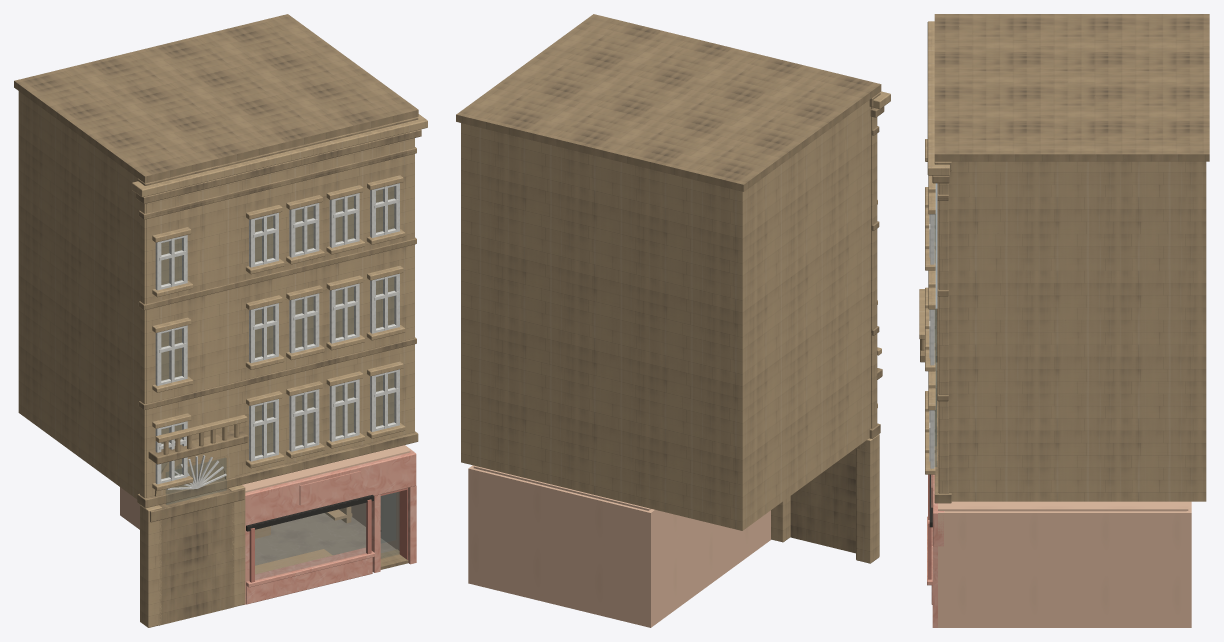
File: nice-things-blockout.glb
3 renders of one model, left to right at view 1: azimuth 30°, elevation 25°; view 2: azimuth 150°, elevation 25°; view 3: azimuth 270°, elevation 25°, orthographic. The views are drawn at different scales.
Visible parts, largest first — view 1: NT_UpperBuildingMass, NT_RoofSlab, NT_CentralEntry_Recess, NT_Glass_MainDisplay, NT_PinkFascia, NT_InteriorFloor, NT_UpperCorniceCrown, NT_StringCourse_00, NT_CentralEntry_LeftPier, NT_UpperCorniceLower, NT_WindowBase, NT_StringCourse_02 (+30 smaller); view 2: NT_UpperBuildingMass, NT_RoofSlab, NT_InteriorWall_Back, NT_InteriorWall_Left, NT_CentralEntry_Recess, NT_CentralEntry_LeftPier, NT_FacadePilaster_00, NT_CentralEntry_RightPier, NT_InteriorCeiling; view 3: NT_UpperBuildingMass, NT_RoofSlab, NT_InteriorWall_Right, NT_FacadePilaster_05, NT_InteriorCeiling, NT_UpperCorniceCrown, NT_InteriorWall_Back, NT_PinkFascia, NT_PinkJamb_Right, NT_StringCourse_00.
Boxes of the visible parts, x1=… form: NT_UpperBuildingMass: x1=18, y1=91, x2=414, y2=499; NT_RoofSlab: x1=14, y1=14, x2=418, y2=183; NT_CentralEntry_Recess: x1=159, y1=502, x2=234, y2=625; NT_Glass_MainDisplay: x1=255, y1=503, x2=366, y2=579; NT_PinkFascia: x1=245, y1=449, x2=416, y2=527; NT_InteriorFloor: x1=255, y1=513, x2=408, y2=569; NT_UpperCorniceCrown: x1=132, y1=114, x2=427, y2=197; NT_StringCourse_00: x1=137, y1=431, x2=418, y2=508; NT_CentralEntry_LeftPier: x1=140, y1=505, x2=161, y2=627; NT_UpperCorniceLower: x1=136, y1=129, x2=421, y2=203; NT_WindowBase: x1=246, y1=557, x2=372, y2=604; NT_StringCourse_02: x1=138, y1=237, x2=416, y2=310; NT_UpperBuildingMass: x1=461, y1=100, x2=870, y2=530; NT_RoofSlab: x1=456, y1=14, x2=881, y2=191; NT_InteriorWall_Back: x1=468, y1=467, x2=653, y2=627; NT_InteriorWall_Left: x1=649, y1=509, x2=770, y2=625; NT_CentralEntry_Recess: x1=790, y1=448, x2=855, y2=553; NT_CentralEntry_LeftPier: x1=856, y1=434, x2=879, y2=563; NT_FacadePilaster_00: x1=871, y1=107, x2=877, y2=428; NT_CentralEntry_RightPier: x1=771, y1=496, x2=790, y2=542; NT_InteriorCeiling: x1=473, y1=466, x2=650, y2=510; NT_UpperBuildingMass: x1=938, y1=161, x2=1206, y2=501; NT_RoofSlab: x1=934, y1=14, x2=1209, y2=161; NT_InteriorWall_Right: x1=938, y1=511, x2=1188, y2=627; NT_FacadePilaster_05: x1=939, y1=183, x2=948, y2=493; NT_InteriorCeiling: x1=938, y1=501, x2=1188, y2=511; NT_UpperCorniceCrown: x1=927, y1=21, x2=949, y2=175; NT_InteriorWall_Back: x1=1186, y1=501, x2=1191, y2=627; NT_PinkFascia: x1=932, y1=474, x2=944, y2=546; NT_PinkJamb_Right: x1=932, y1=546, x2=937, y2=627; NT_StringCourse_00: x1=934, y1=400, x2=951, y2=503.
Size of the model in its own units: 9.72 by 14.69 by 8.13.
Materials: 10 (9 with a texture image).
